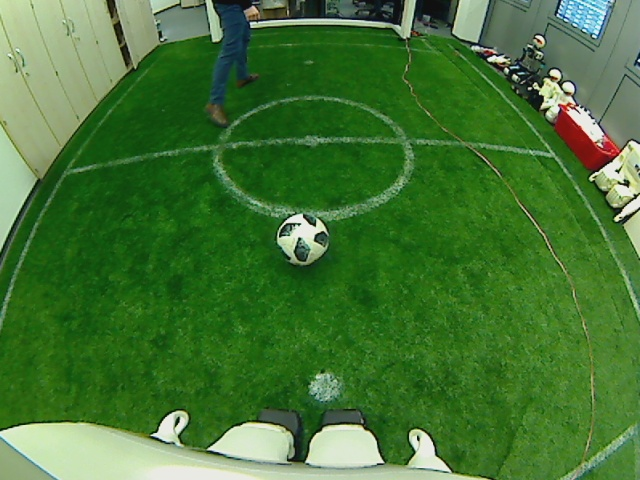ball: (274, 211, 329, 266)
